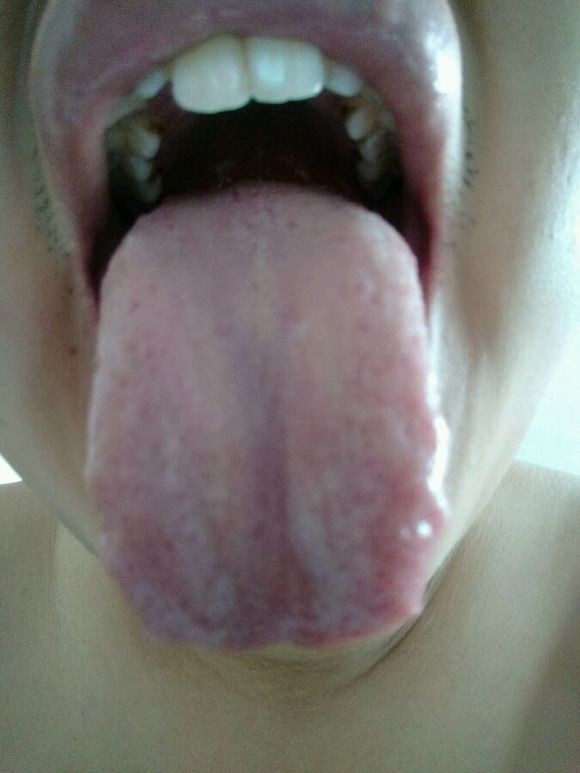baitaishe: (85, 175, 448, 649)
chihenshe: (416, 438, 447, 618)
